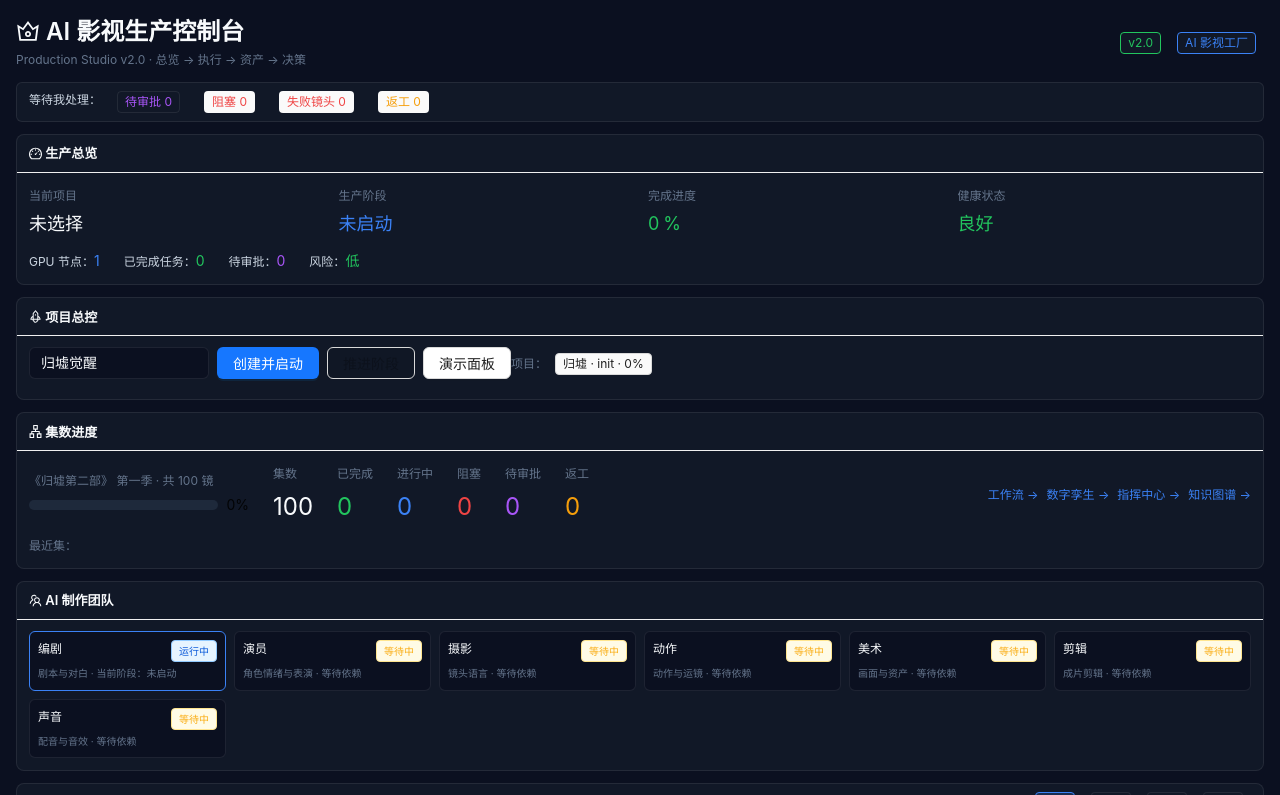
Test: ProductionStudioV1 › runs demo panel and shows scores
The width and height of the screenshot is (1280, 795).
Expected: the text "项目总控" is shown, [29,309,97,325]
Step 1. Click the button "演示面板" → (467, 363), box [423,347,511,379]
(page scrolled)
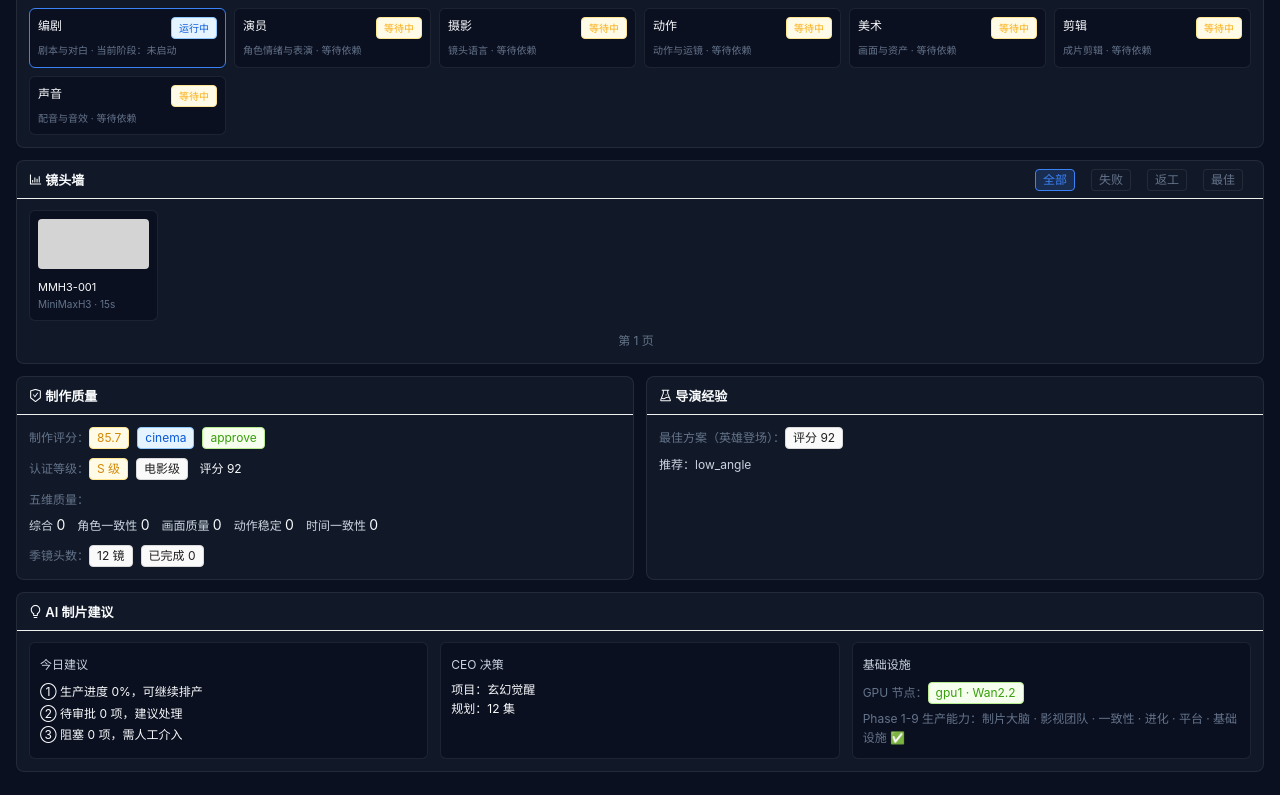
Result: the text "制作评分：" is shown at [29,430,89,445]
Result: the text "85.7" is shown at [89,427,129,449]
Result: the text "认证等级：" is shown at [29,461,89,476]
